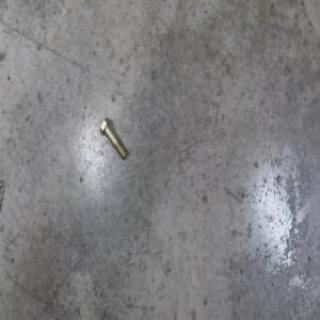Bolttrack_idkeyframe: (98, 116, 126, 161)
